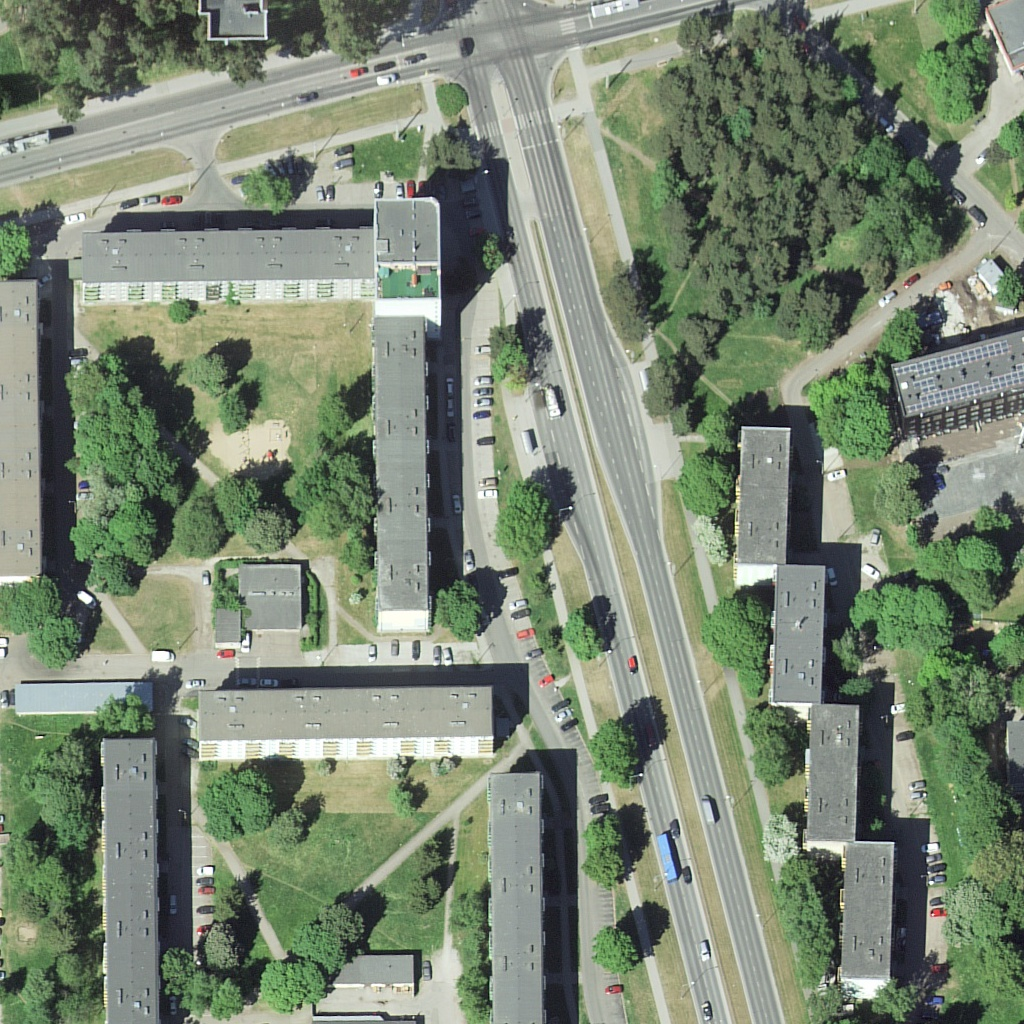building: (197, 683, 497, 770), (364, 316, 437, 638), (78, 229, 376, 302), (100, 732, 161, 1024), (485, 763, 546, 1024), (891, 325, 1024, 433), (1, 283, 45, 592), (802, 695, 869, 851), (836, 836, 900, 993), (732, 419, 785, 586), (371, 197, 444, 313), (769, 559, 825, 705), (236, 562, 316, 633), (314, 948, 427, 997)
